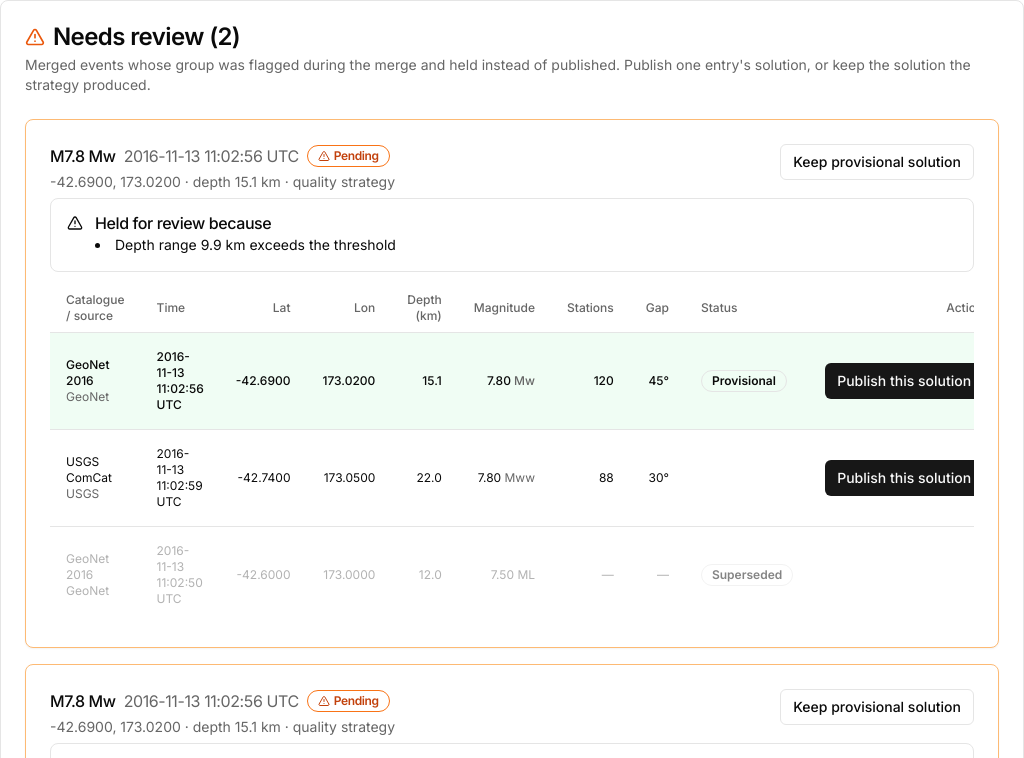
it: deciding › publishes a report: posts the index, drops the event, and updates the count from the response
The image size is (1024, 758).
Expected: the heading "Needs review (2)" is shown, 25,22 -> 240,51
Click the 2nd button "Publish this solution".
click(904, 478)  # box 825,460 -> 983,496
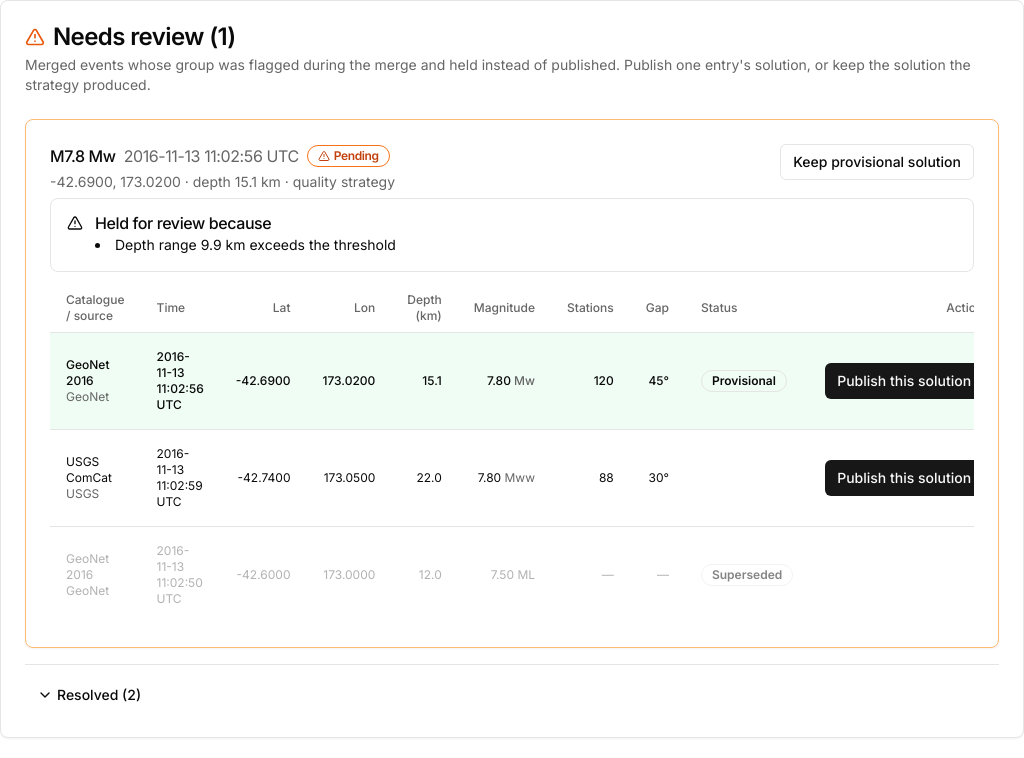
Expected: the heading "Needs review (1)" is shown, 25,22 -> 236,51
Expected: the button "Resolved (2)" is shown, 25,676 -> 153,712
